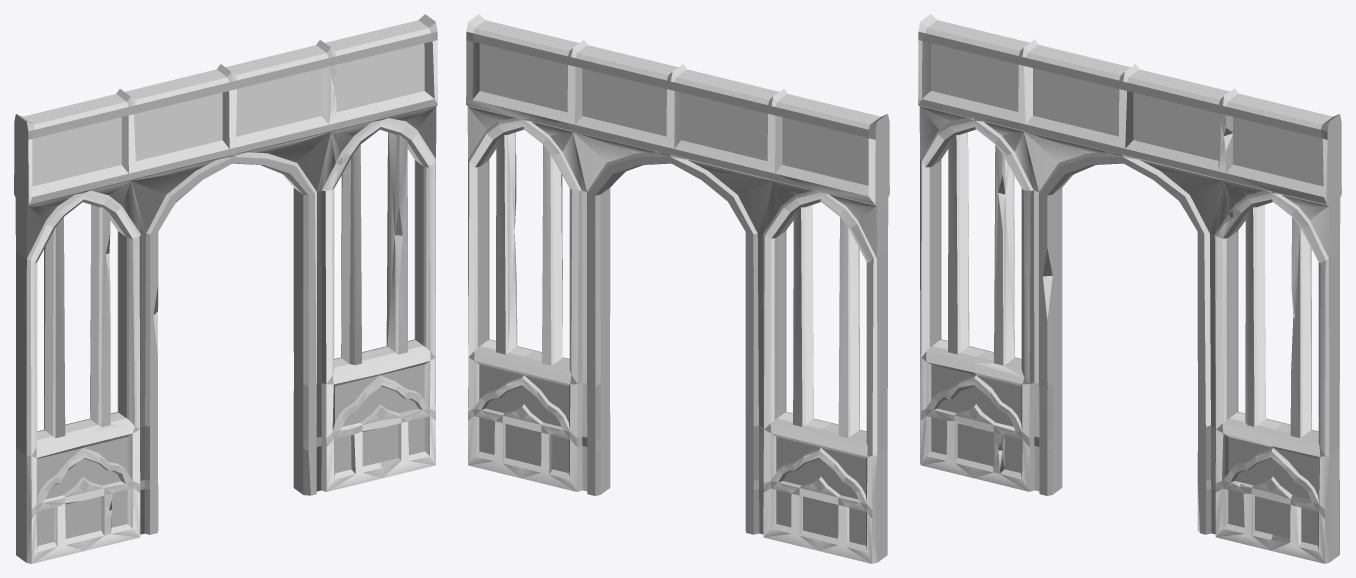
File: SM_Bld_Partition_Door_01.glb
3 renders of one model, left to right at view 1: azimuth 30°, elevation 25°; view 2: azimuth 150°, elevation 25°; view 3: azimuth 330°, elevation 25°, orthographic.
Parts seen in each view (by area): view 1: SM_Bld_Partition_Door_01; view 2: SM_Bld_Partition_Door_01; view 3: SM_Bld_Partition_Door_01.
Boxes of the visible parts, left/top/right/bottom form: SM_Bld_Partition_Door_01: left=14, top=14, right=437, bottom=563; SM_Bld_Partition_Door_01: left=466, top=14, right=889, bottom=563; SM_Bld_Partition_Door_01: left=918, top=14, right=1341, bottom=563.
Size of the model in its own units: 2.5 by 2.58 by 0.1619.
Materials: 2 (1 with a texture image).
